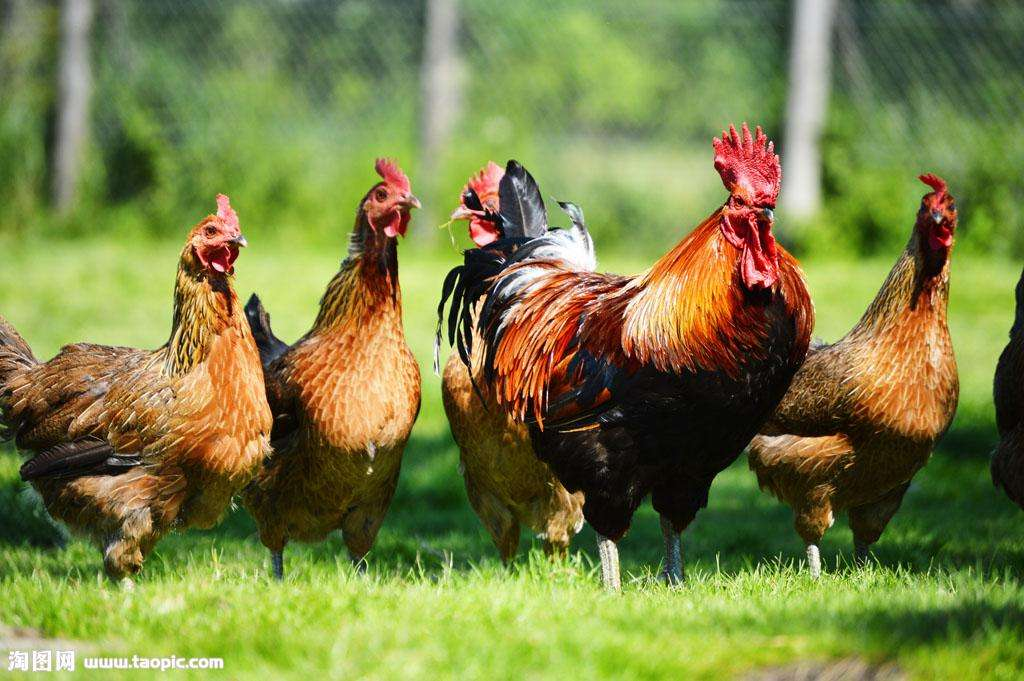chicken: (444, 115, 815, 601), (4, 186, 277, 594), (244, 157, 425, 585), (790, 166, 965, 574), (439, 157, 586, 577)
